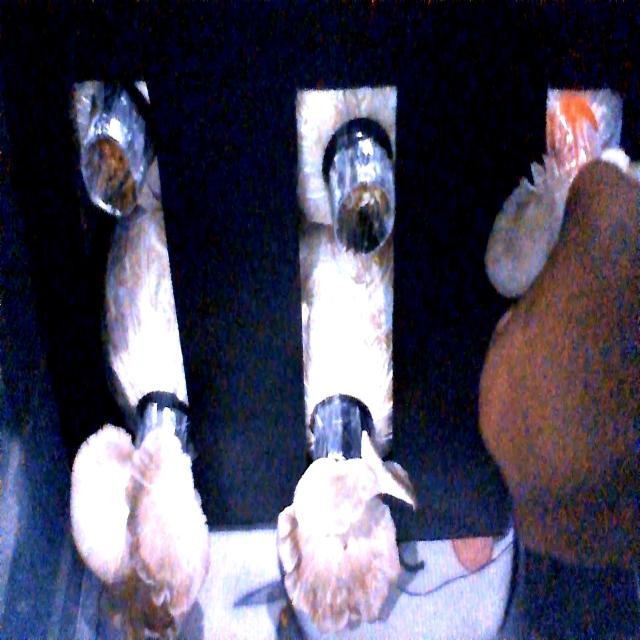big: (70, 428, 208, 616), (278, 448, 402, 626)
nfound: (76, 127, 142, 214), (333, 180, 393, 256)
